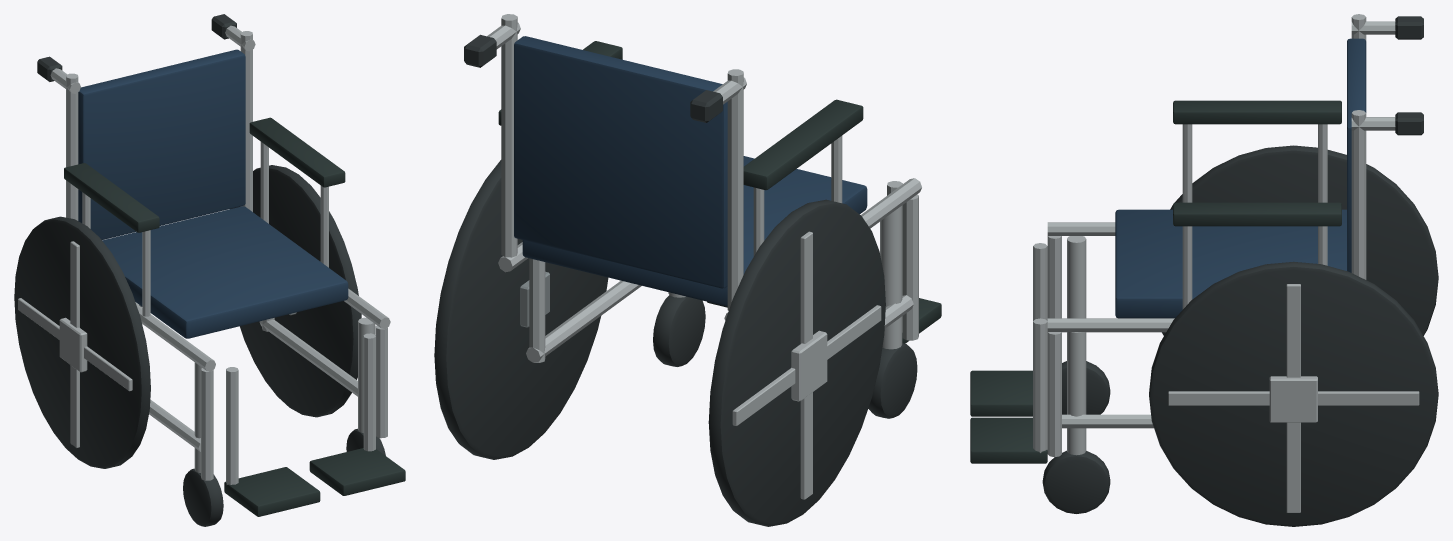
Rendered from wheelchair.glb.
The picture shows the model from 3 angles, left to right: view 1: azimuth 30°, elevation 25°; view 2: azimuth 150°, elevation 25°; view 3: azimuth 270°, elevation 25°; orthographic projection. The views are drawn at different scales.
Visible parts, largest first — view 1: wheelchair; view 2: wheelchair; view 3: wheelchair.
Part boxes in pixels (x1,y1,x2,y2): wheelchair: [14, 14, 405, 526]; wheelchair: [434, 14, 941, 526]; wheelchair: [970, 14, 1438, 526].
Bounding box in the file's own units: 0.64 × 0.92 × 0.97.
